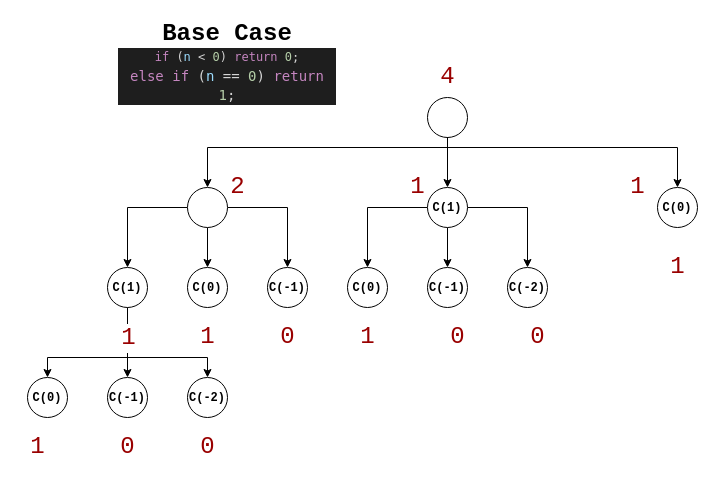
The diagram is 715 pixels wide and 484 high, and some of its shapes have lost their labels. Here are the shapes that lost their labels. From the top down, the box of each, then its label:
(426, 96, 468, 138): C(3)
(186, 186, 228, 228): C(2)
